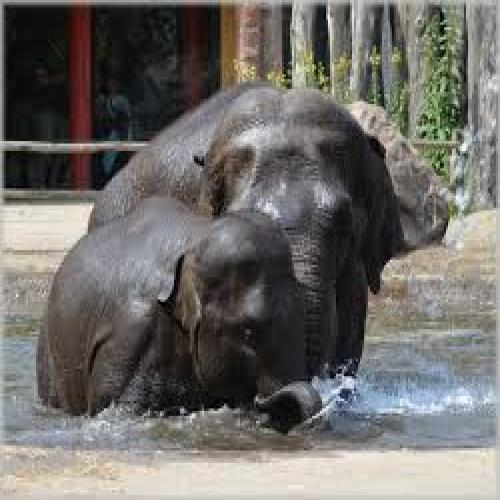asian_elephant-endangered: (86, 86, 400, 376), (38, 195, 310, 424)
